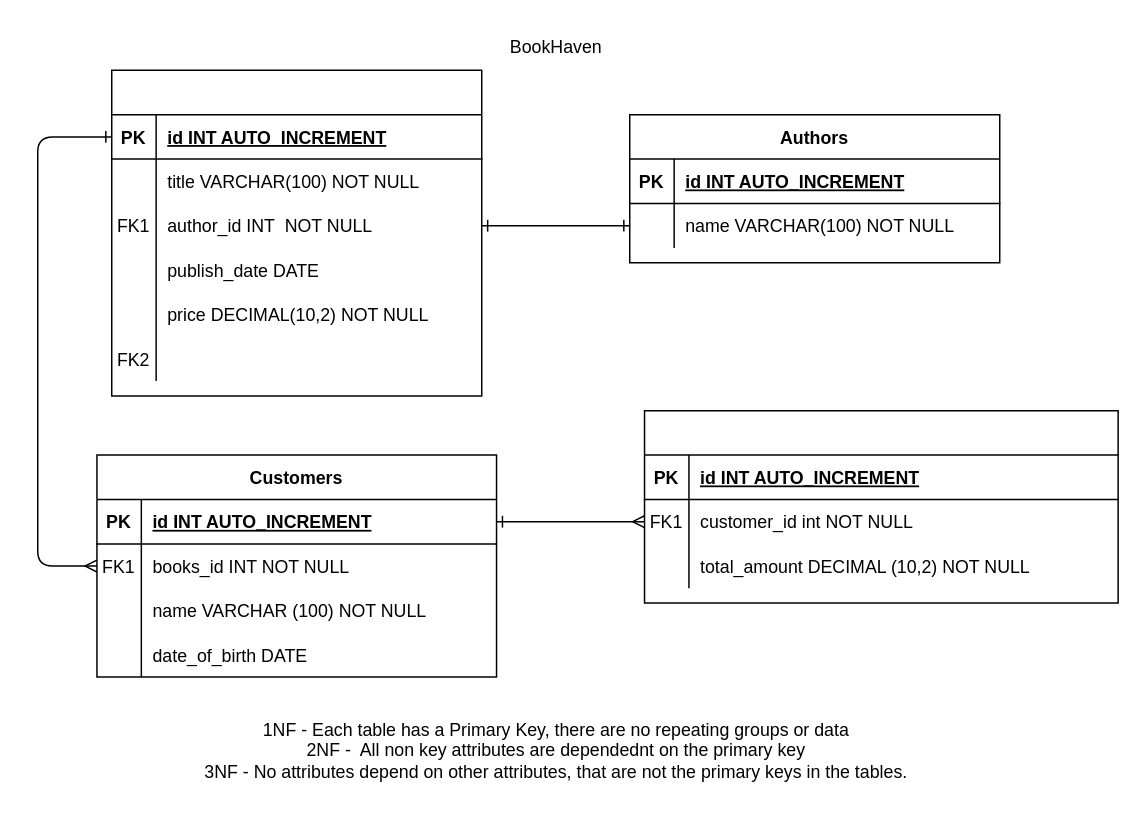
The diagram is 1144 pixels wide and 820 high, and some of its shapes have lost their labels. Here are the shapes that lost their labels. From the top down, the box of each, then its label:
(110, 69, 482, 396): Books
(643, 409, 1118, 603): Transactions
